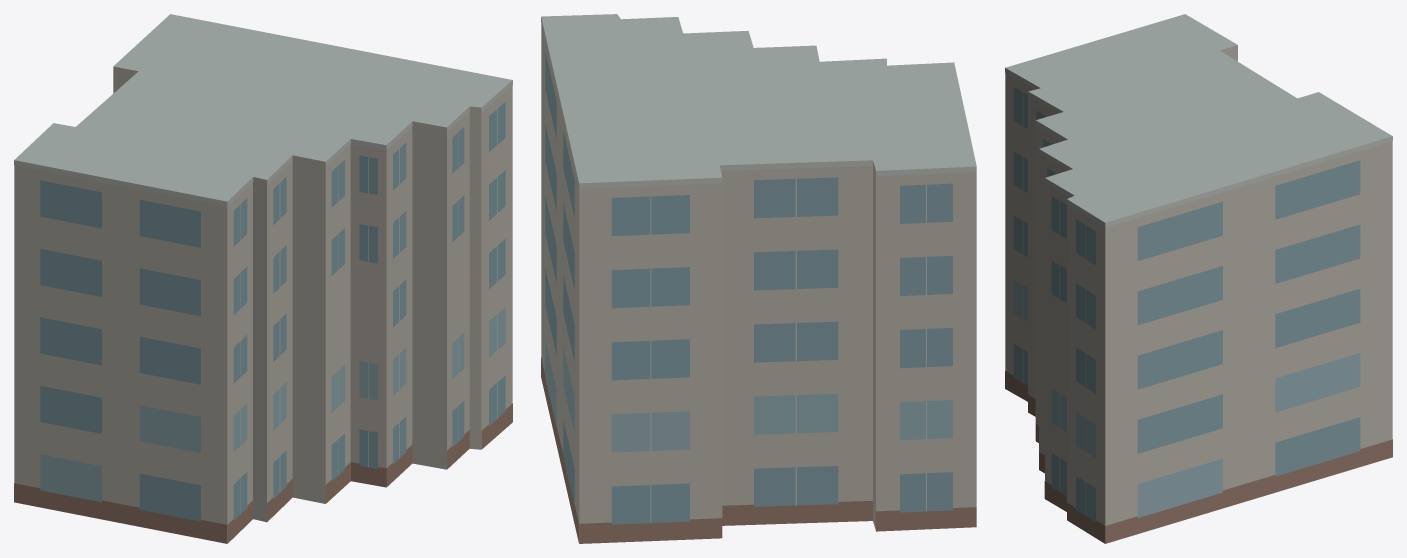
The model's file is survey-upis-32869606.glb.
3 renders of one model, left to right at view 1: azimuth 30°, elevation 25°; view 2: azimuth 150°, elevation 25°; view 3: azimuth 270°, elevation 25°, orthographic. The views are drawn at different scales.
Parts seen in each view (by area): view 1: survey-upis-32869606.tmp; view 2: survey-upis-32869606.tmp; view 3: survey-upis-32869606.tmp.
Boxes of the visible parts, x1,y1,x2,y2 form: survey-upis-32869606.tmp: (14, 14, 512, 543); survey-upis-32869606.tmp: (541, 14, 976, 543); survey-upis-32869606.tmp: (1005, 14, 1392, 543).
Bounding box in the file's own units: 22.39 × 16.05 × 17.57.
